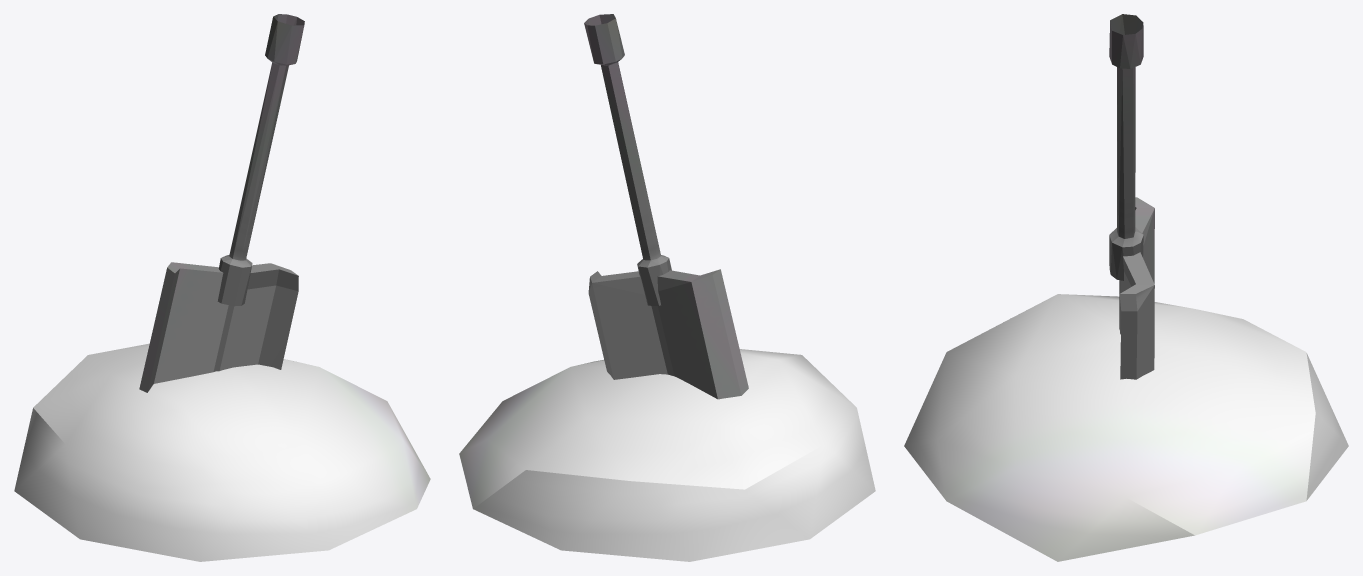
3 views of the same model, side by side, from view 1: azimuth 30°, elevation 25°; view 2: azimuth 150°, elevation 25°; view 3: azimuth 270°, elevation 25° (orthographic). The views are drawn at different scales.
Visible parts, largest first — view 1: Pa; view 2: Pa; view 3: Pa.
Part boxes in pixels (left/top/right/bottom): Pa: left=14, top=14, right=430, bottom=561; Pa: left=459, top=14, right=875, bottom=561; Pa: left=904, top=14, right=1348, bottom=561.
Bounding box in the file's own units: 1.9 × 2.41 × 2.
Materials: 1 (1 with a texture image).
